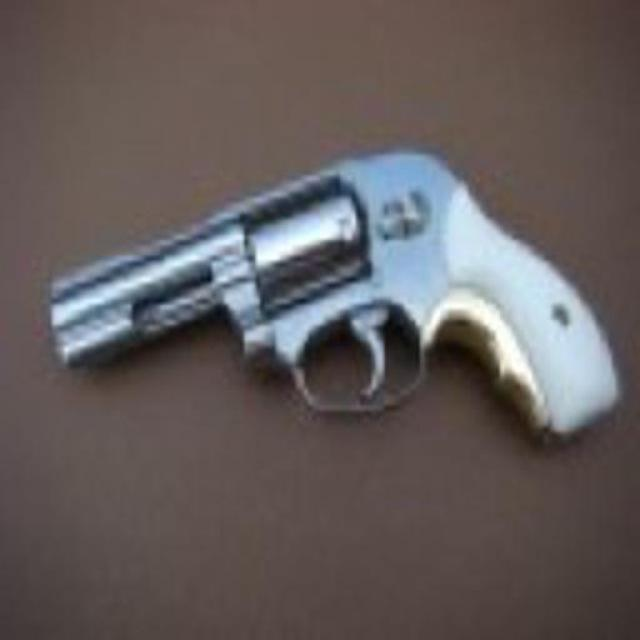pistol: (51, 149, 615, 480)
